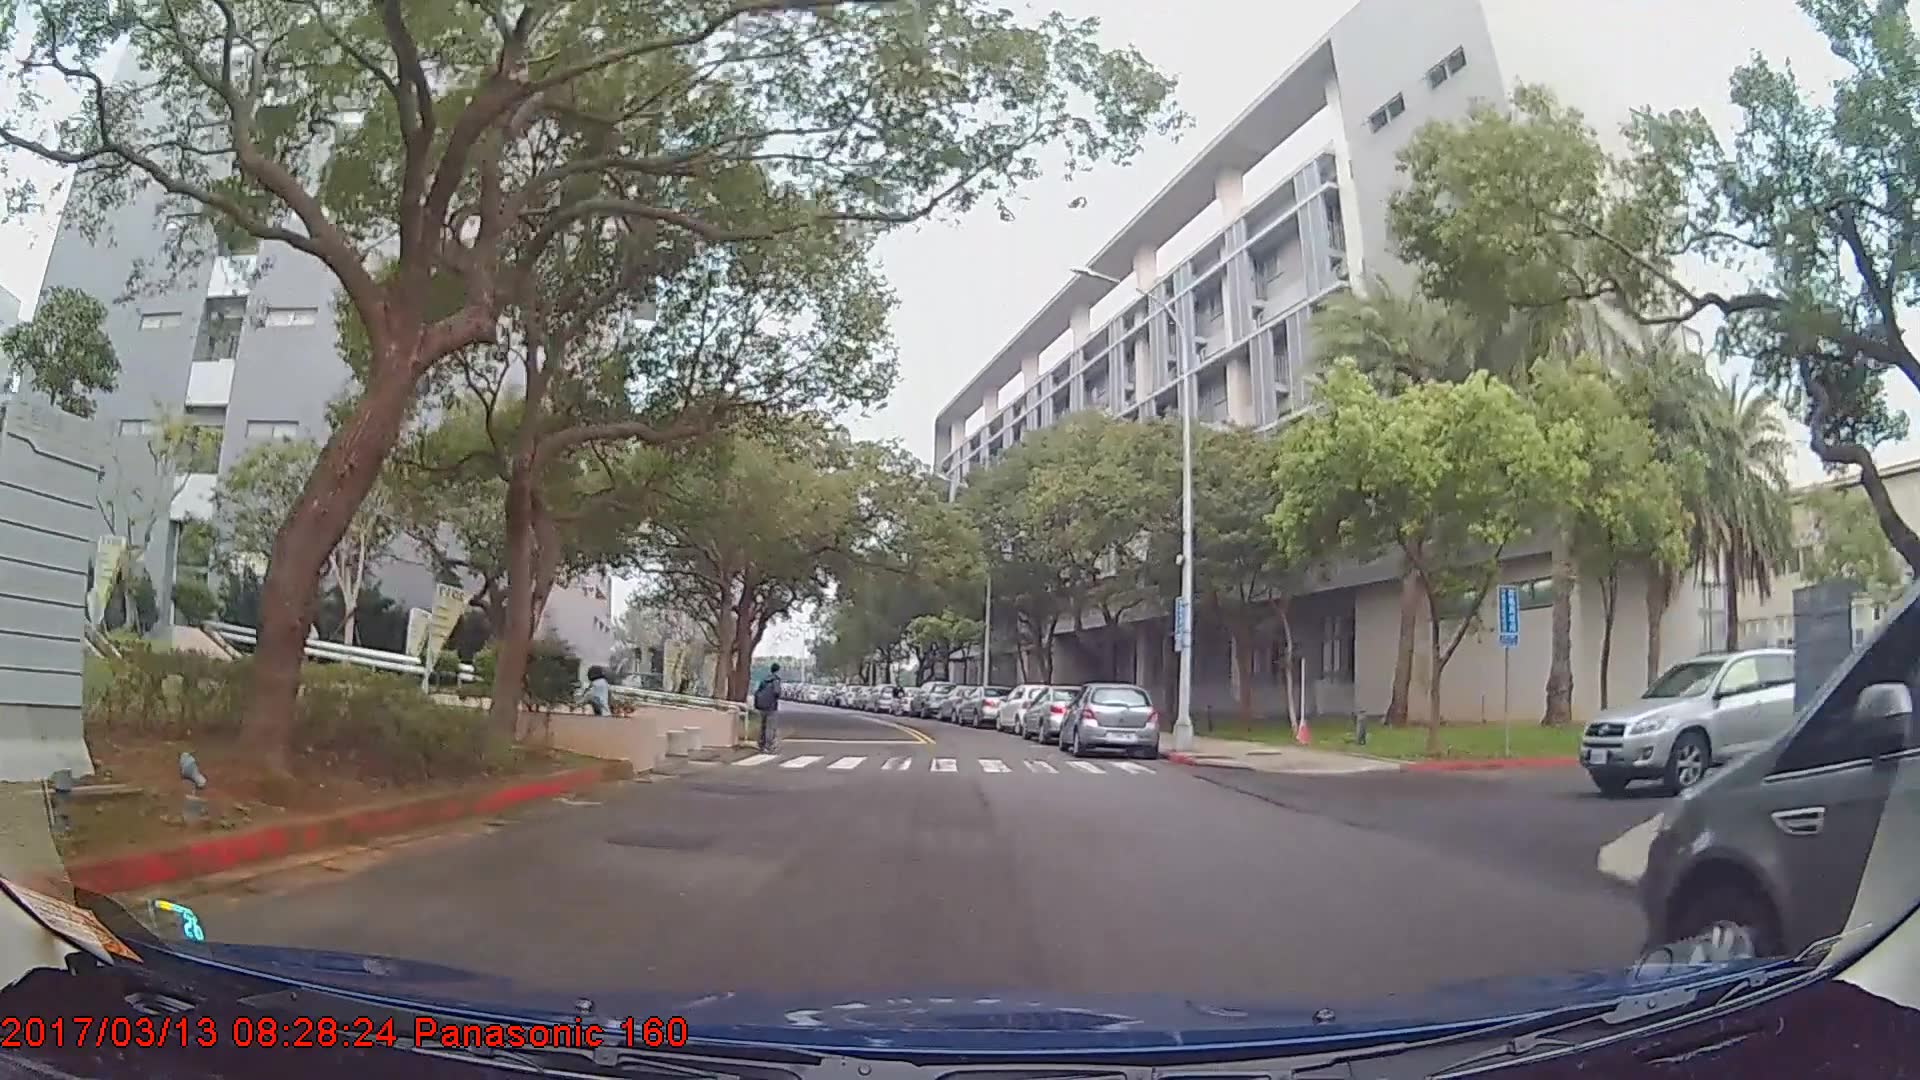pedestrian: (571, 664, 632, 756), (751, 662, 786, 756)
vehicle: (1642, 583, 1920, 1016), (1580, 645, 1838, 795), (1057, 679, 1159, 759), (1017, 680, 1109, 741), (993, 678, 1068, 735), (956, 681, 1009, 722), (909, 678, 953, 715)
